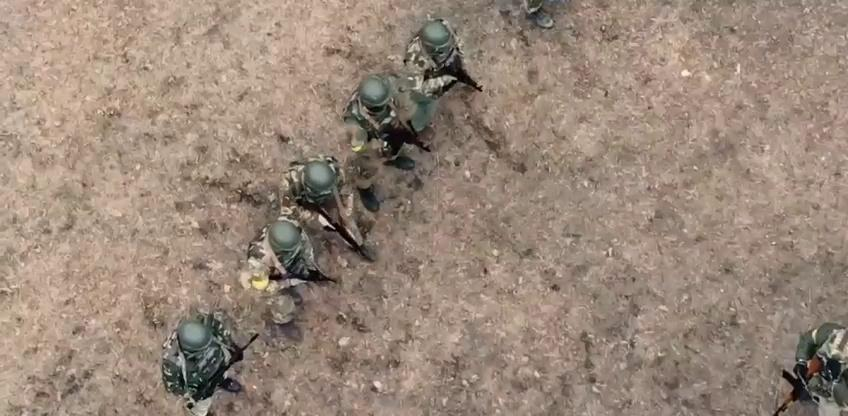person: (246, 215, 339, 340), (278, 153, 374, 264), (160, 311, 260, 416), (344, 72, 432, 171), (768, 316, 848, 416), (405, 18, 484, 106)
